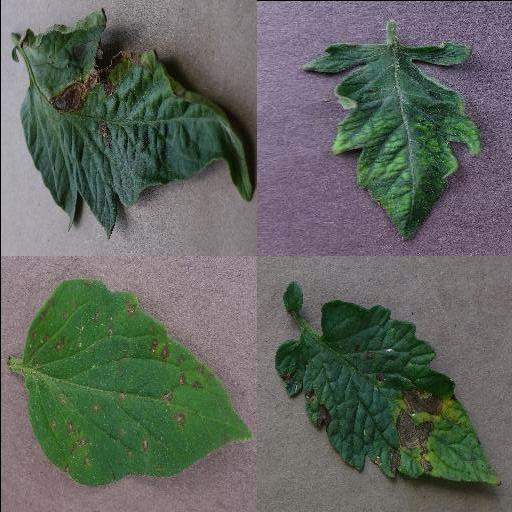Early Blight: (19, 10, 253, 240), (276, 300, 500, 486)
Mosaic Virus: (300, 38, 480, 242)
Septoria: (23, 278, 249, 490)
